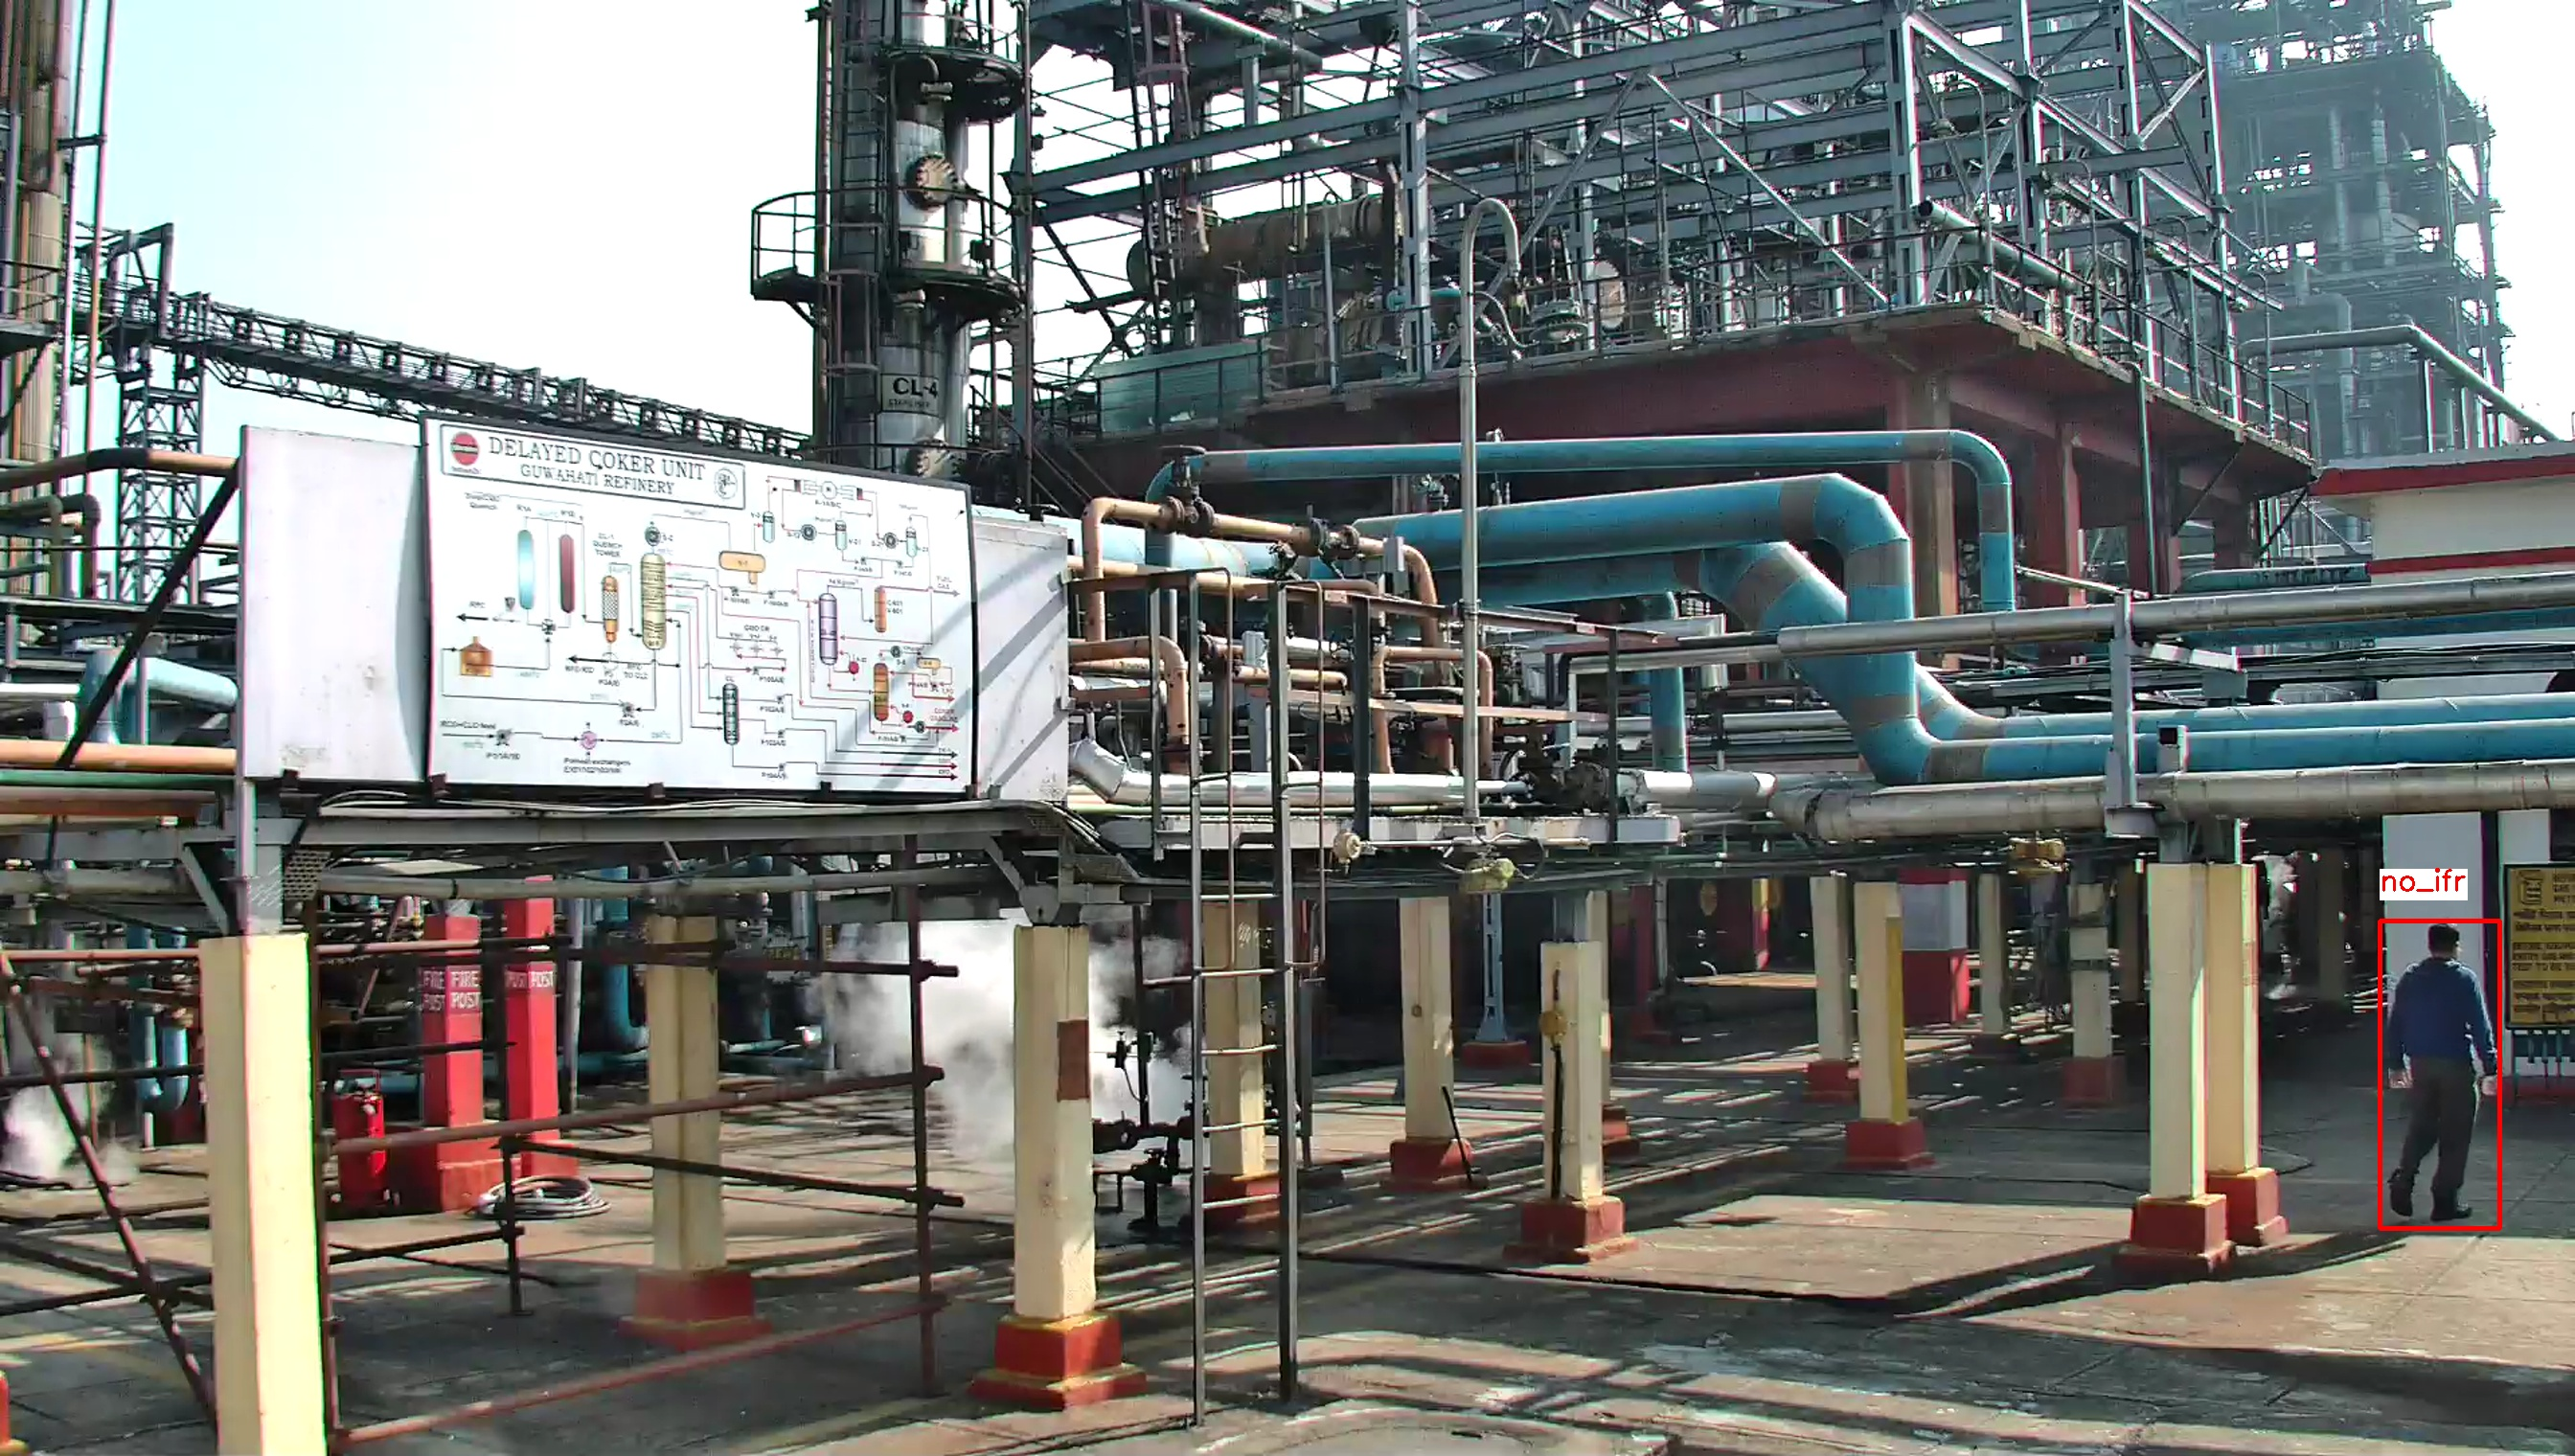Boots: (2386, 1162, 2419, 1222), (2430, 1192, 2476, 1224)
